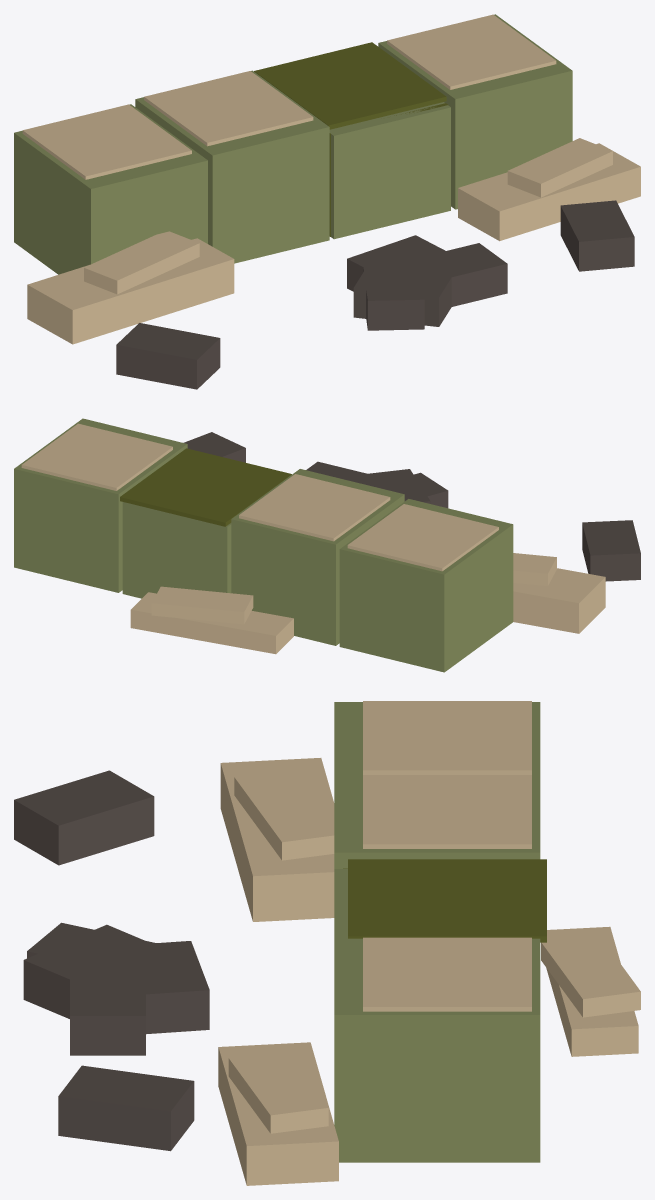
The model's file is SM_HescoCorto4_v4_Red_e2_MuyDanado_LOD1.fbx.
The picture shows the model from 3 angles, top to bottom: view 1: azimuth 30°, elevation 25°; view 2: azimuth 150°, elevation 25°; view 3: azimuth 270°, elevation 25°; orthographic projection. The views are drawn at different scales.
Visible parts, largest first — view 1: SM_hesco_piezas_v118_LOD1; view 2: SM_hesco_piezas_v118_LOD1; view 3: SM_hesco_piezas_v118_LOD1.
Boxes of the visible parts, box(x1,y1,x2,y2) form: SM_hesco_piezas_v118_LOD1: box(14, 14, 640, 389); SM_hesco_piezas_v118_LOD1: box(14, 418, 640, 672); SM_hesco_piezas_v118_LOD1: box(14, 701, 640, 1185).
Bounding box in the file's own units: 5.36 × 1.02 × 3.71.
